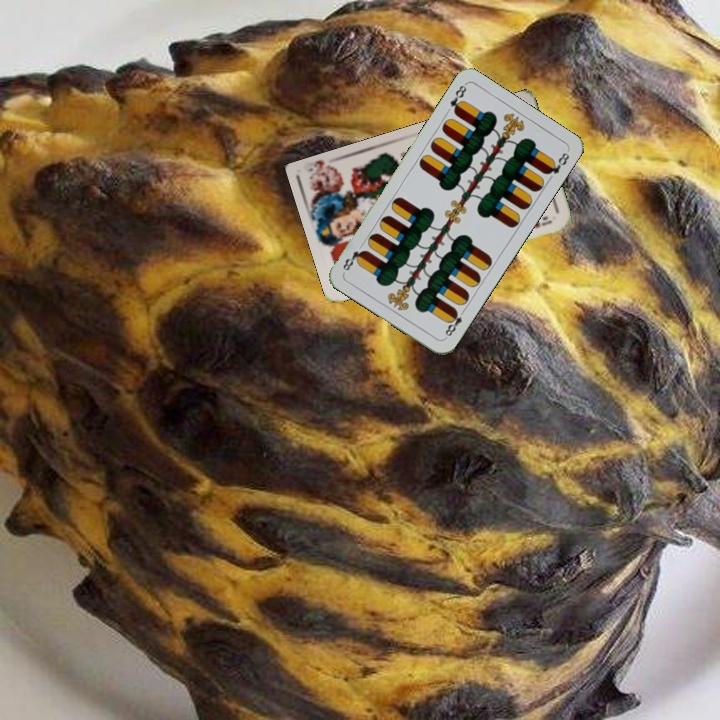E8: (441, 80, 469, 117), (440, 305, 468, 341)
